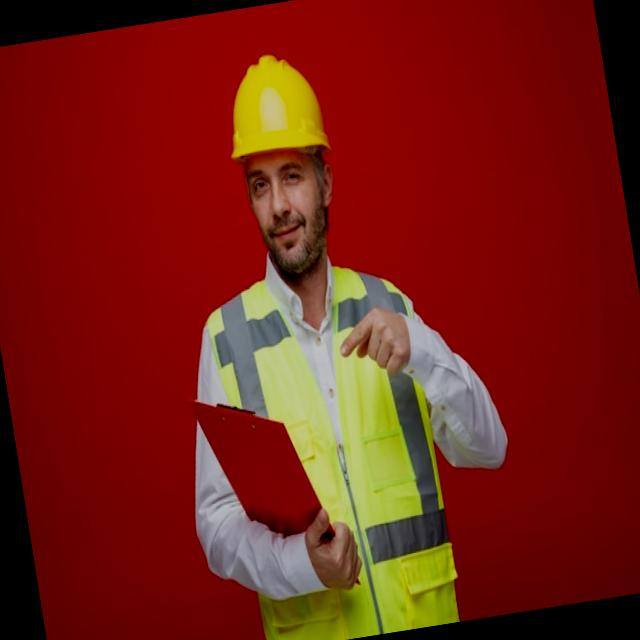helmet: (196, 29, 344, 184)
no-goggles: (240, 156, 328, 210)
vest: (173, 226, 475, 640)
